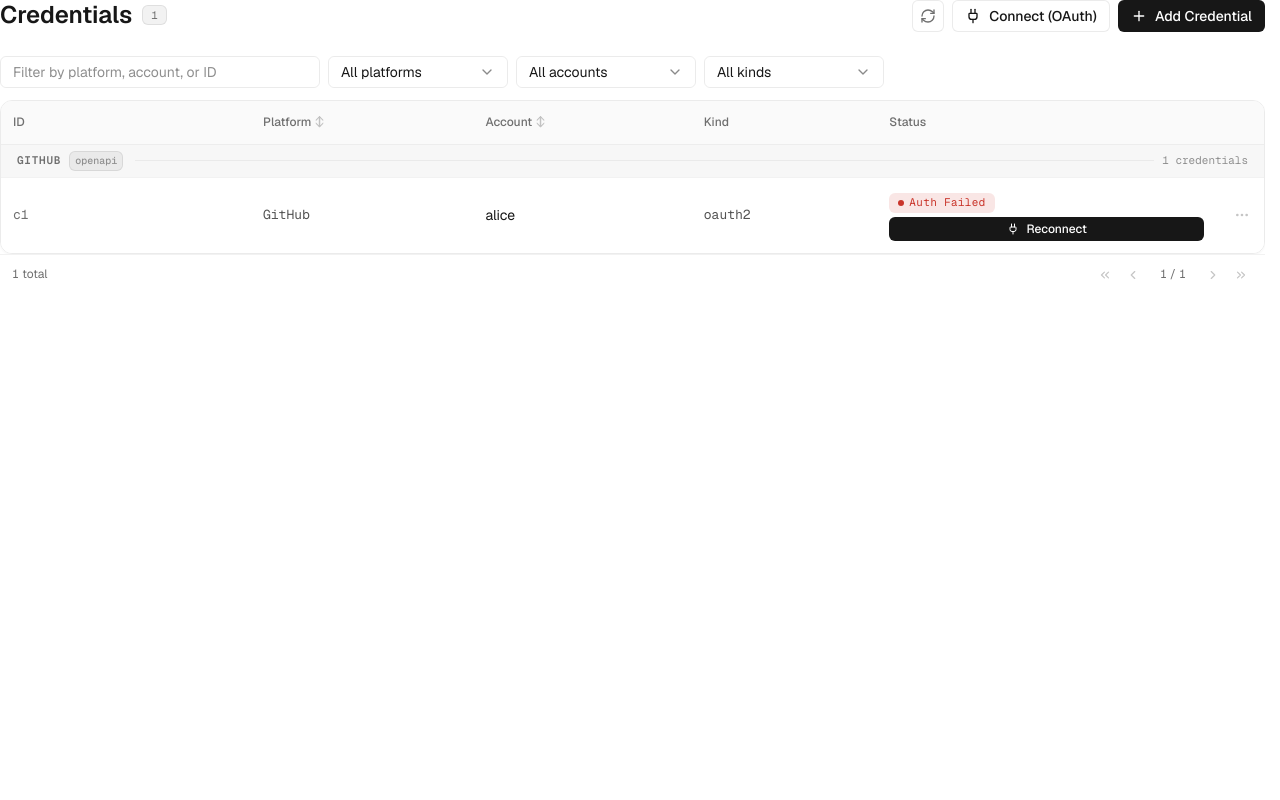
Scenario: CredentialsPage — OAuth status badges (Expiring / Auth Failed) + Reconnect › 'Use different credentials' reveals the fields and validates them before submitting
Click the button "Reconnect" at (1047, 228), box [889,216,1204,240]
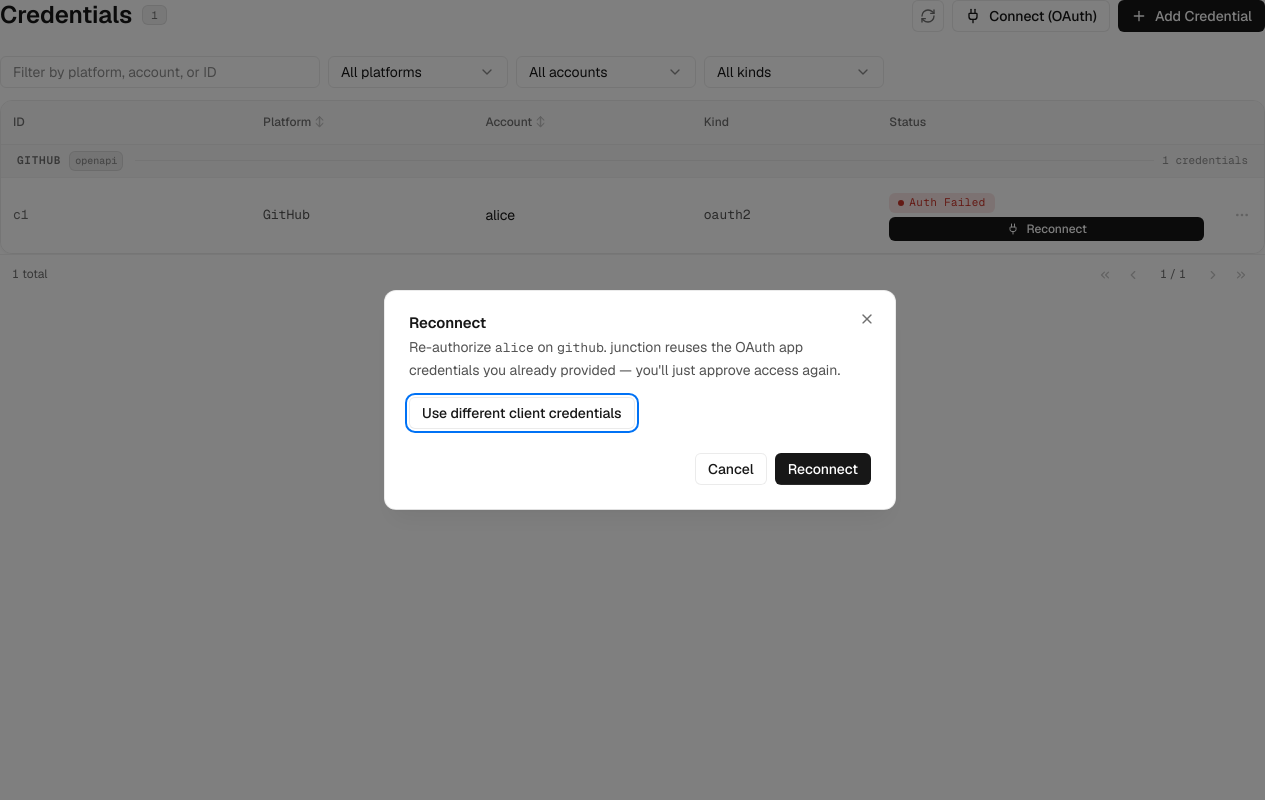
Result: the dialog is shown at [384,290,896,510]
Click the button "Use different client credentials" at (522, 413), box [409,397,635,429]
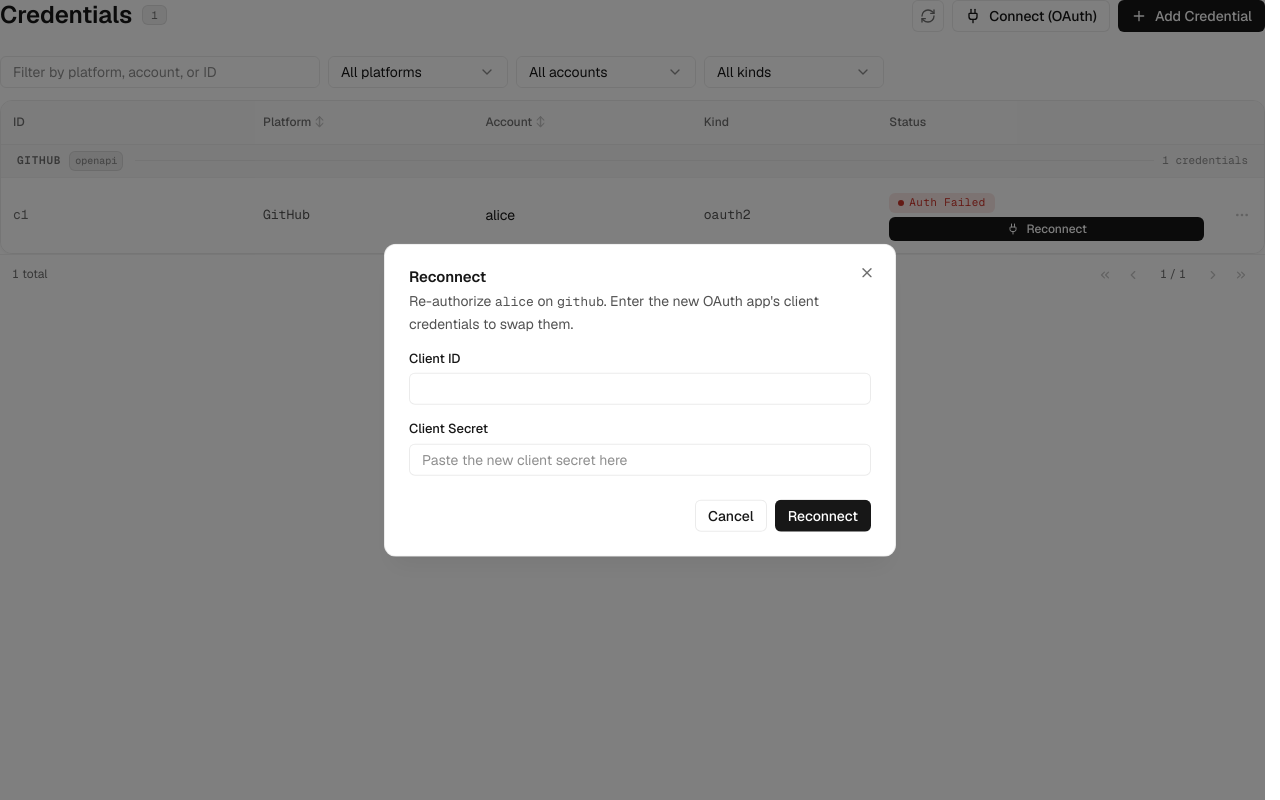
Result: the password field labelled "Client Secret" is shown at [409,443,871,475]
Click the submit button at (823, 515), box [775,499,871,531]
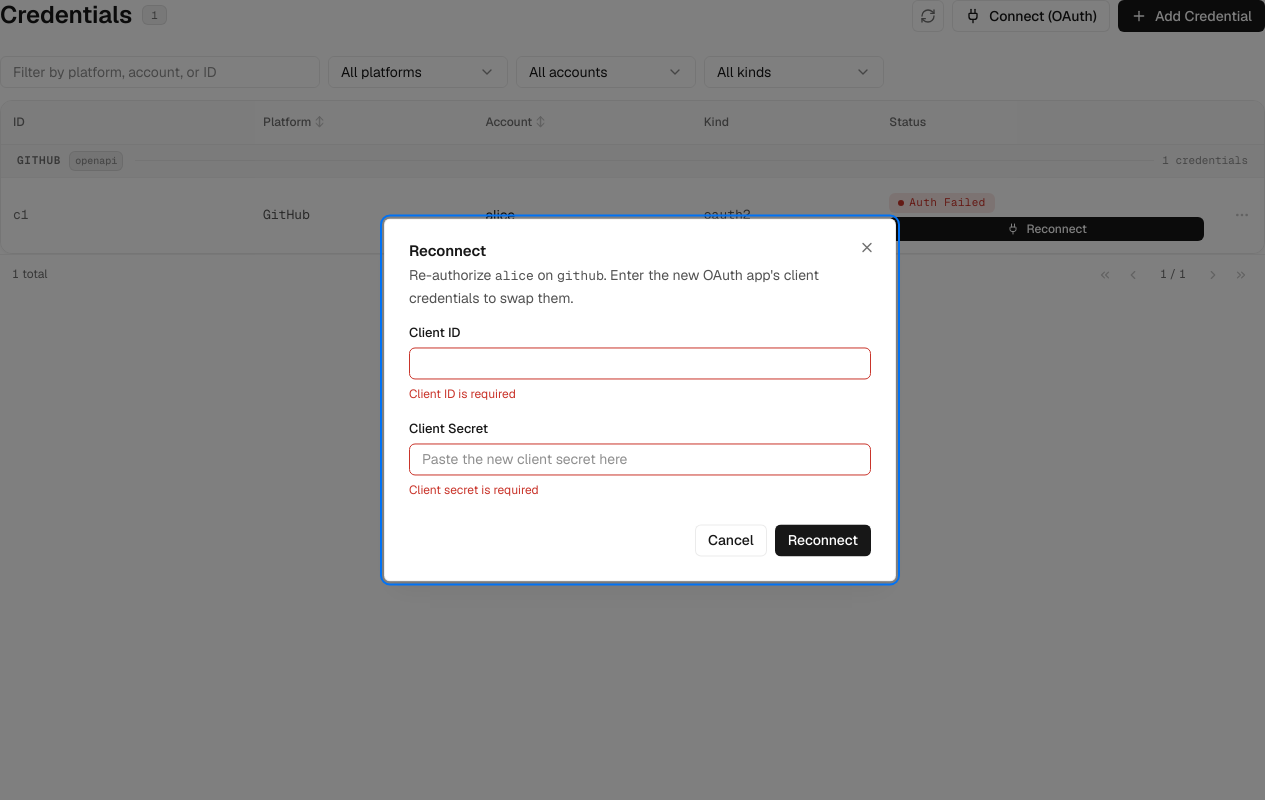
Result: the text "Client ID is required" is shown at [409,387,516,403]
